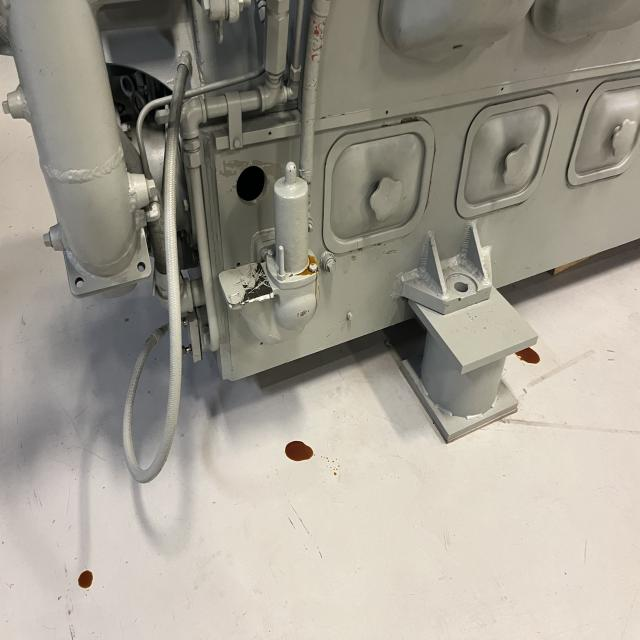Oil Leak: (285, 441, 313, 461), (297, 254, 317, 276), (515, 347, 540, 364), (78, 570, 93, 589)
